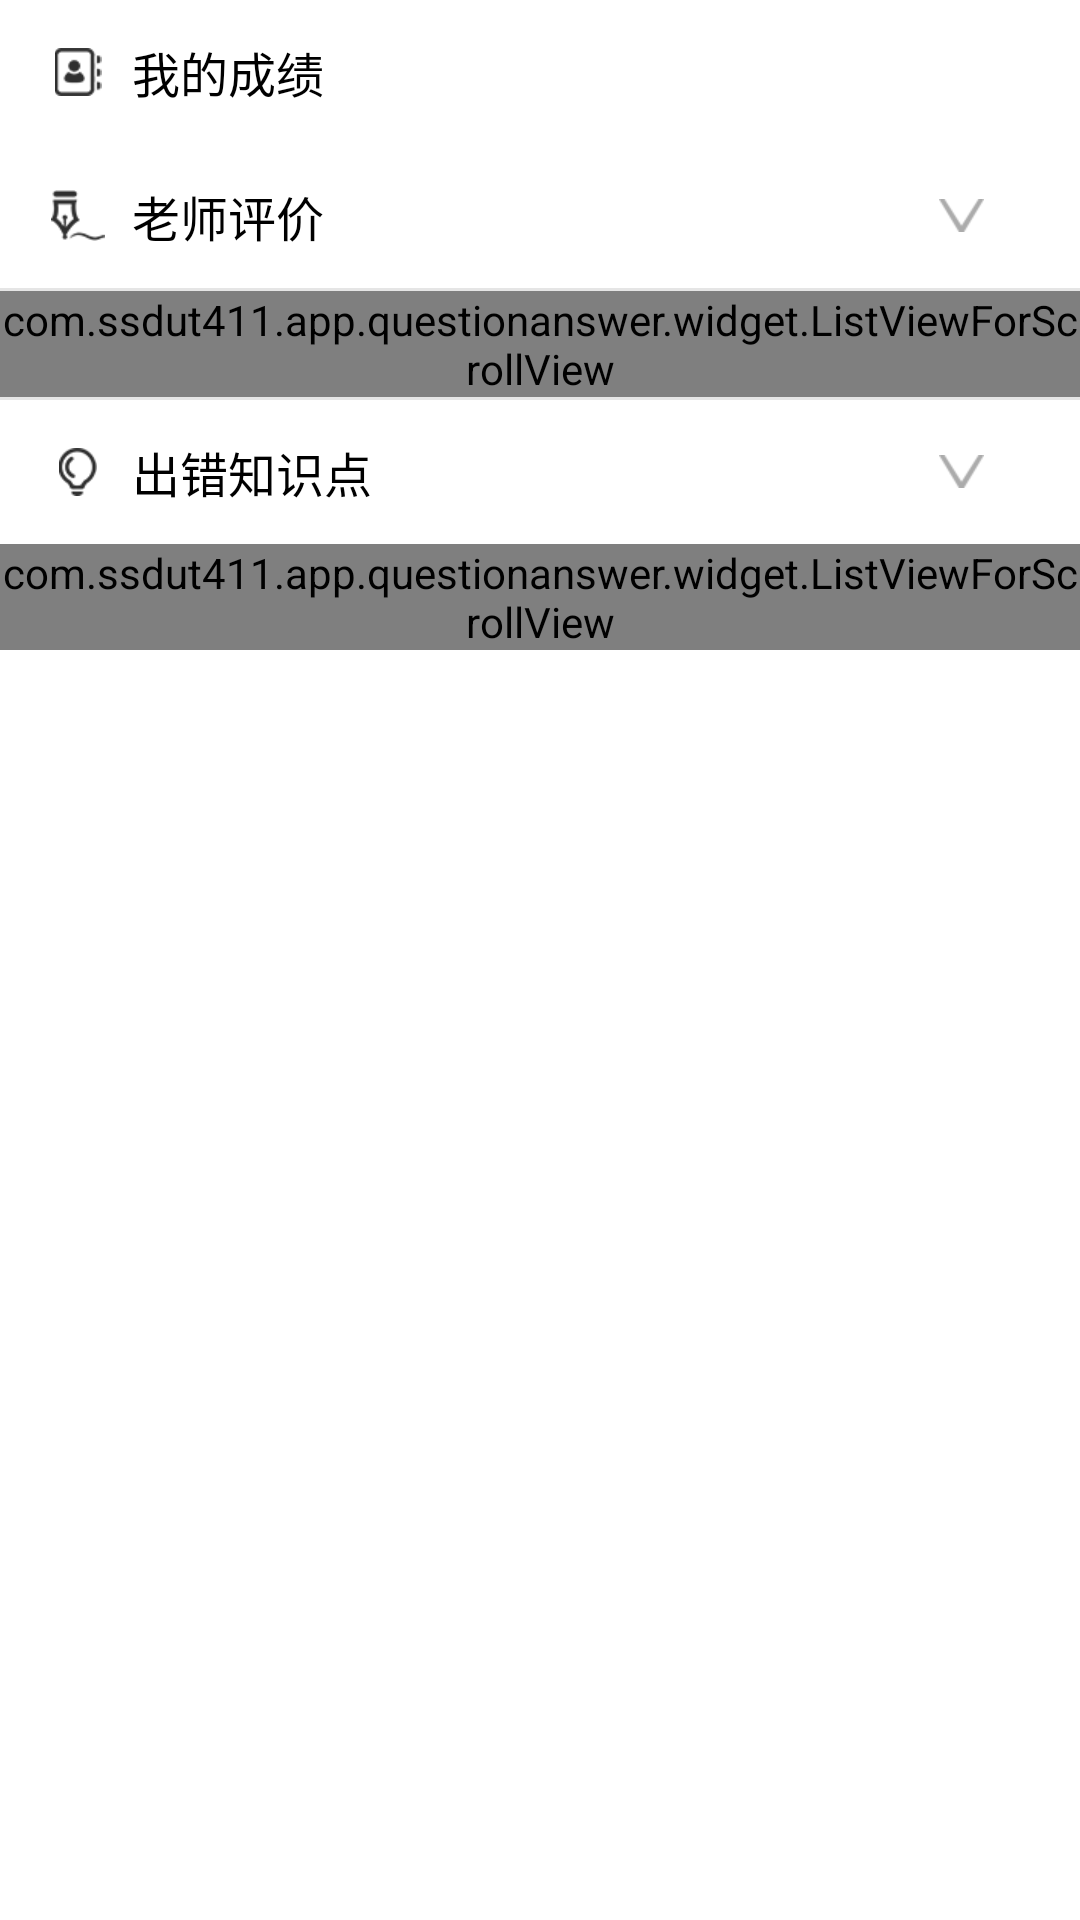

Point at icon controls on the screen. Image size 1080w x 1920h, points as [x,y].
arrow down: [961,215], [961,471]
report evaluation: [78,215]
